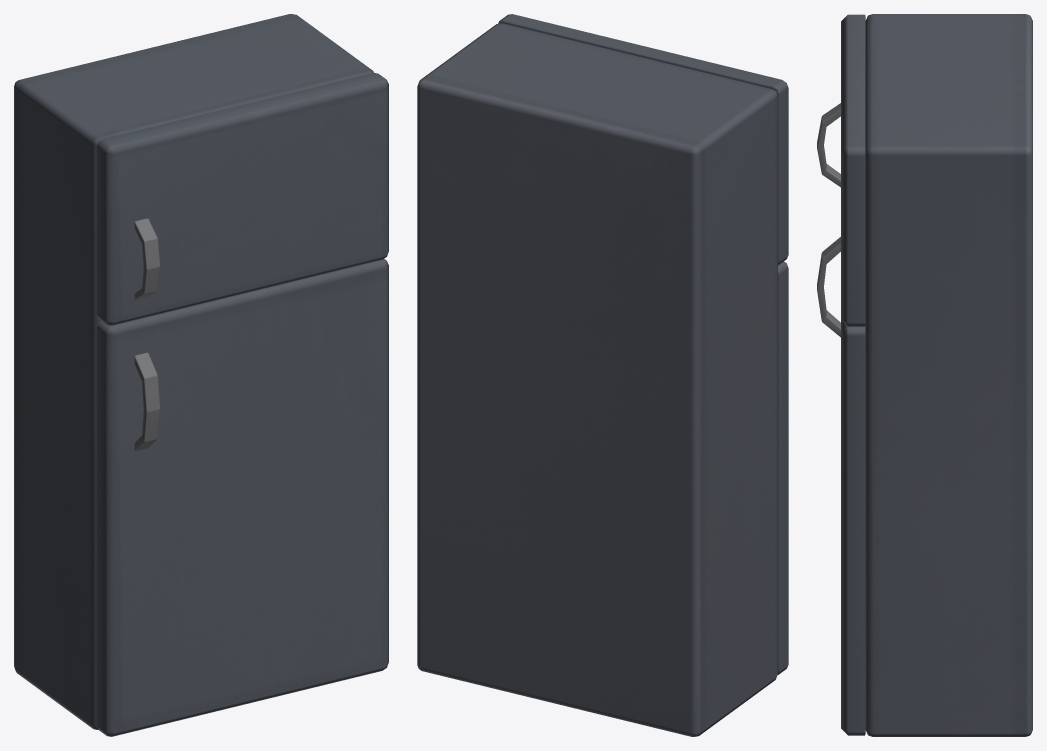
File: SM_Fridge_Group.fbx
3 views of the same model, side by side, from view 1: azimuth 30°, elevation 25°; view 2: azimuth 150°, elevation 25°; view 3: azimuth 270°, elevation 25° (orthographic).
Parts seen in each view (by area): view 1: SM_Fridge_Door_B, SM_Fridge_Base, SM_Fridge_Door_A; view 2: SM_Fridge_Base, SM_Fridge_Door_A, SM_Fridge_Door_B; view 3: SM_Fridge_Base, SM_Fridge_Door_B, SM_Fridge_Door_A.
Part boxes in pixels (x1,y1,x2,y2): SM_Fridge_Door_B: (96, 259, 388, 736); SM_Fridge_Base: (14, 14, 373, 729); SM_Fridge_Door_A: (96, 73, 388, 325); SM_Fridge_Base: (417, 23, 777, 736); SM_Fridge_Door_A: (498, 14, 788, 265); SM_Fridge_Door_B: (777, 261, 788, 674); SM_Fridge_Base: (865, 14, 1032, 736); SM_Fridge_Door_B: (817, 237, 865, 735); SM_Fridge_Door_A: (817, 14, 865, 326).
Bounding box in the file's own units: 0.7528 × 1.5 × 0.4968.
Materials: 1 (1 with a texture image).
